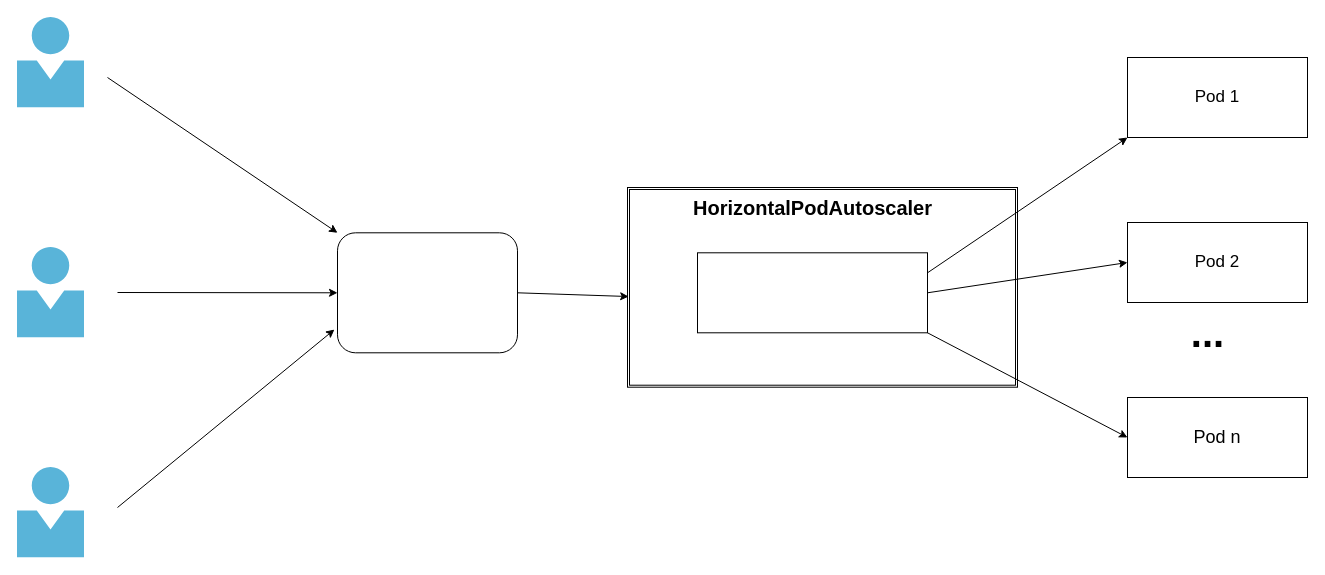
Some shapes in this 1325 by 575 pixel diagram are drawn without their labels. The box of each missing label's shape, as (x1, y1, x2, y2) in pixels:
Deployment: (696, 252, 928, 333)
k8s-LoadBalncer Service: (336, 232, 518, 353)
